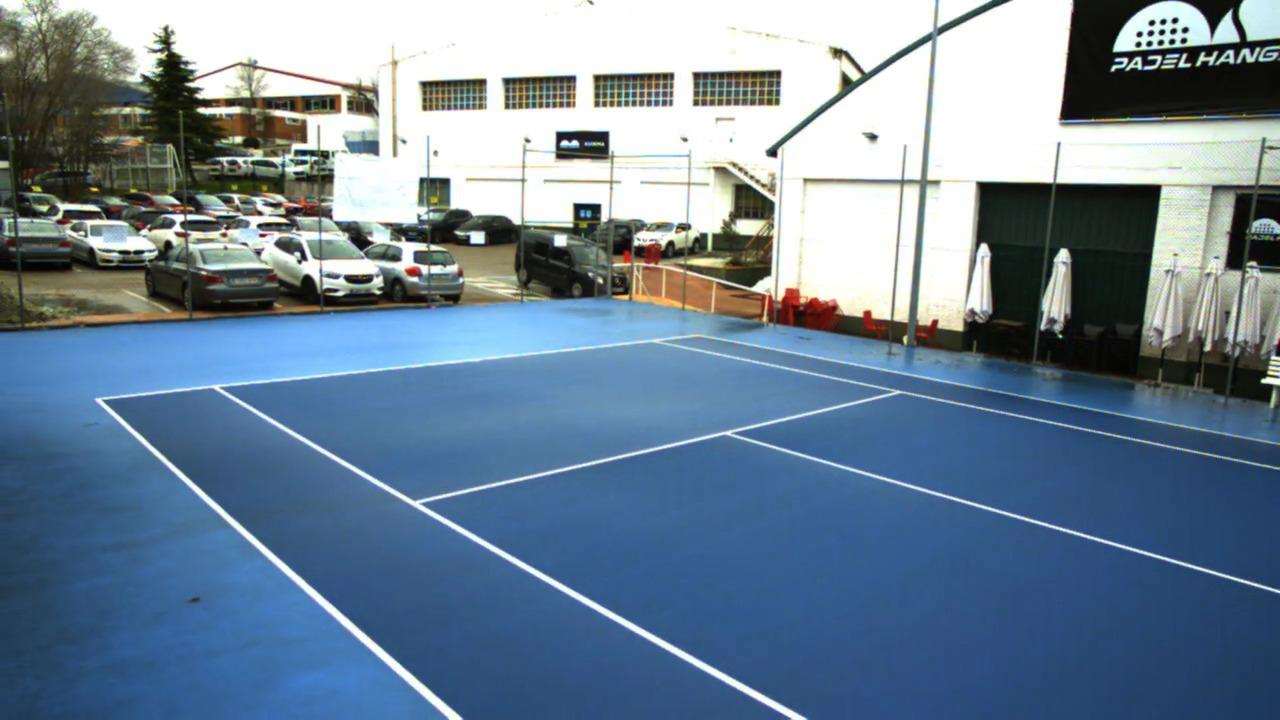cancha_tenis: (213, 338, 1280, 720)
point_f1: (205, 373, 233, 397)
point_f2: (643, 329, 675, 351)
point_fc1: (468, 350, 485, 367)
point_i1: (403, 484, 433, 511)
point_i2: (884, 379, 911, 400)
point_ic1: (714, 421, 747, 444)
